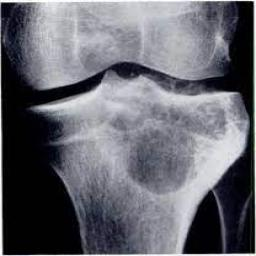cancer: (127, 127, 196, 195)
